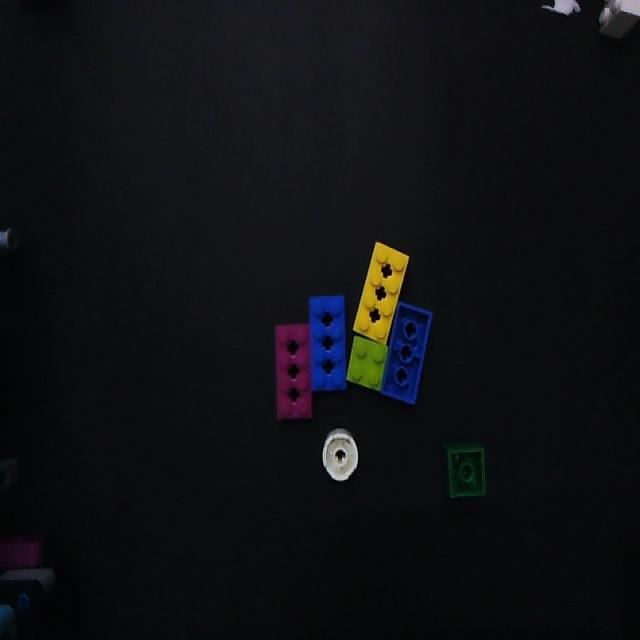lego_brick: (353, 241, 410, 345), (381, 303, 432, 404), (310, 295, 347, 391), (276, 324, 310, 417), (346, 336, 388, 391), (446, 443, 485, 496), (323, 429, 357, 480)
